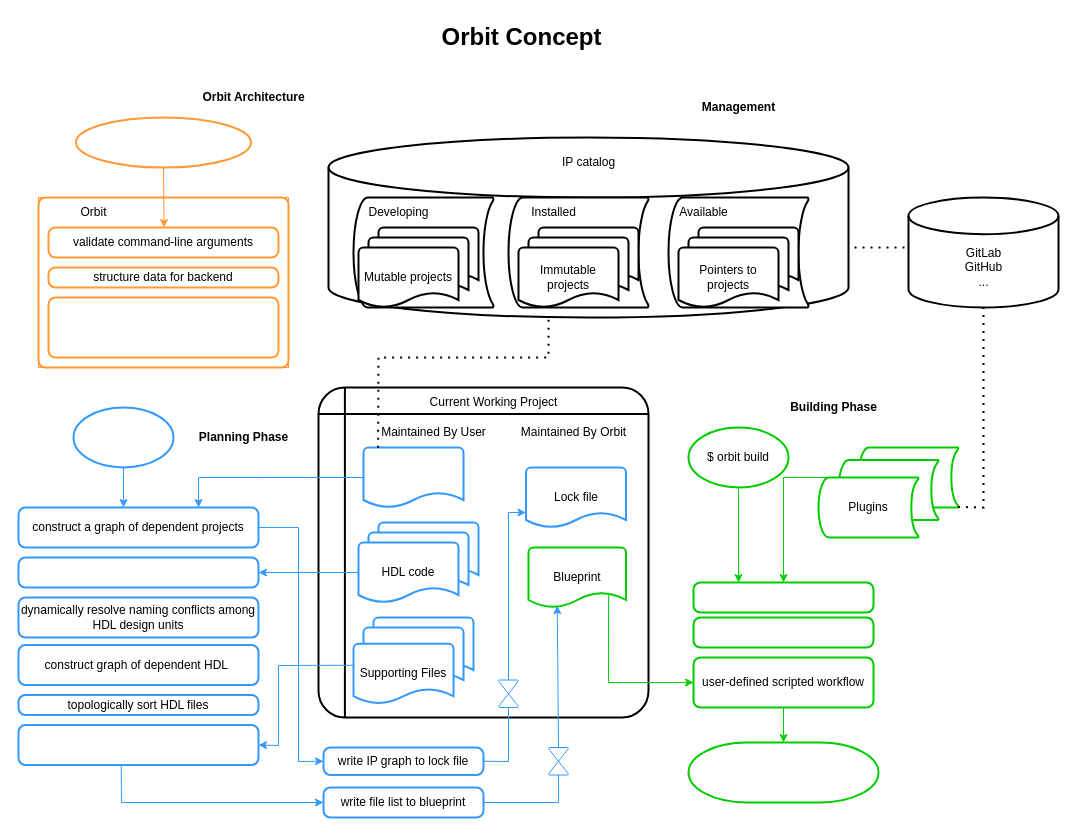
The diagram is 1076 pixels wide and 835 high, and some of its shapes have lost their labels. The centre of each missing label's shape, as x and y in pixels:
"$ orbit [options] [command]" belongs at pixel 163 142.
"$ orbit plan" belongs at pixel 123 437.
"collect supporting files from user-defined patterns" belongs at pixel 138 745.
"execute requested command" belongs at pixel 163 327.
"initialize environment" belongs at pixel 783 597.
"invoke plugin command" belongs at pixel 783 632.
"Manifest" belongs at pixel 413 477.
"parse HDL" belongs at pixel 138 572.
"simulation results synthesis report bitstream ..." belongs at pixel 783 772.
